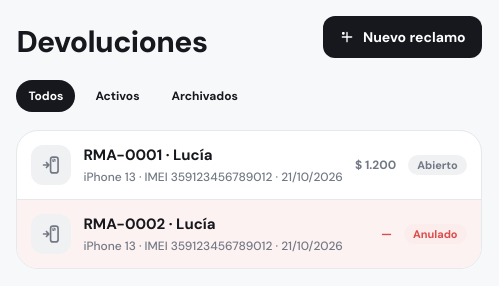
Test case: acciones de fila de reclamos › keeps cancelled claims red, labels them Anulado ahead of old RMA state and excludes them from Activos
This screenshot has width=499, height=286.
Expected: the text "—" is shown, top-left (381, 226), bottom-right (392, 242)
Right-click the button with test id "return-cancelled" at (51, 234), box top-left (17, 200), bottom-right (481, 268)
Click the button with test id "return-cancelled" at (51, 234), box top-left (17, 200), bottom-right (481, 268)
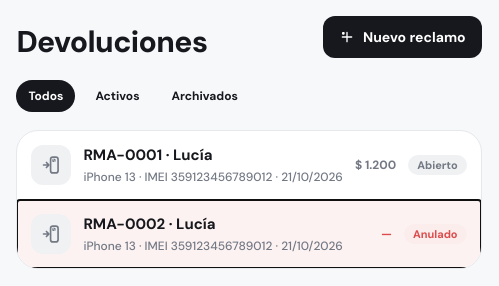
Click the button "Activos" at (117, 96), box top-left (83, 80), bottom-right (152, 112)
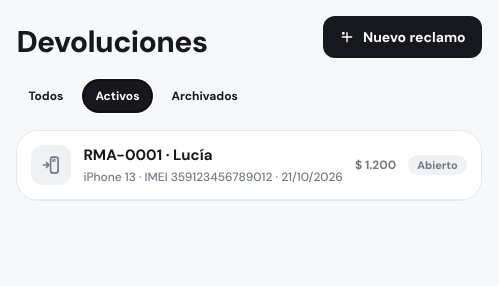
Expected: the button with test id "return-claim" is shown, top-left (17, 131), bottom-right (481, 200)
Expected: the button with test id "return-cancelled" is gone
